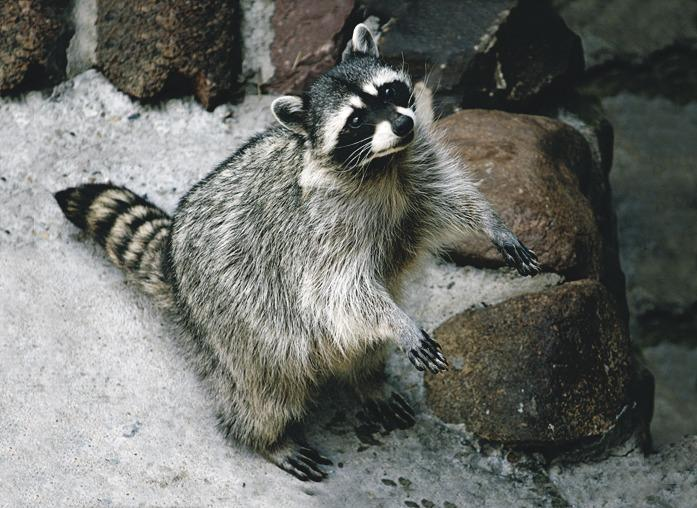raccoon: (47, 18, 542, 484)
